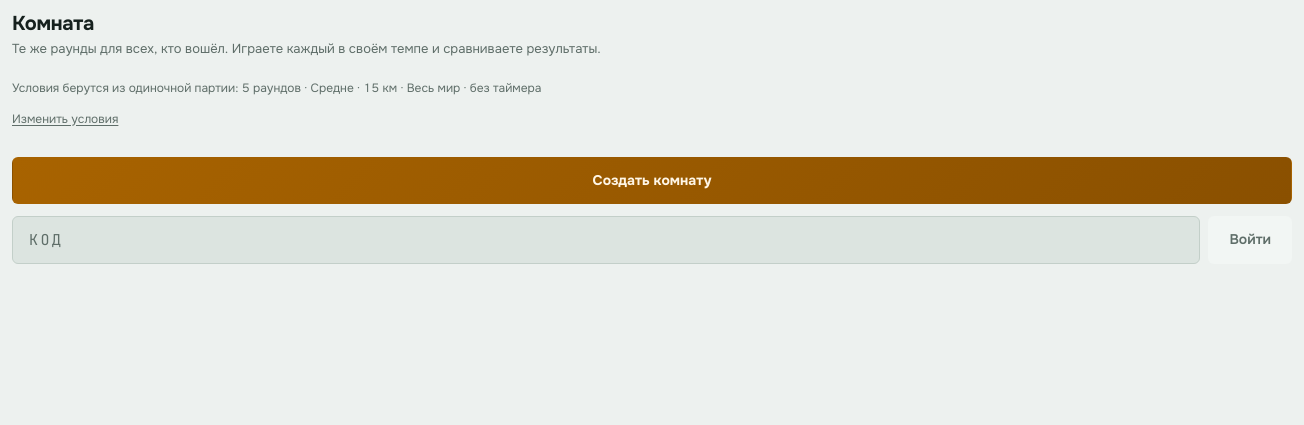
Scenario: MatchRoom › показывает таблицу: счёт доигравшим, прогресс остальным
Click the button "Создать комнату" at [652, 180], box [12,156,1292,204]
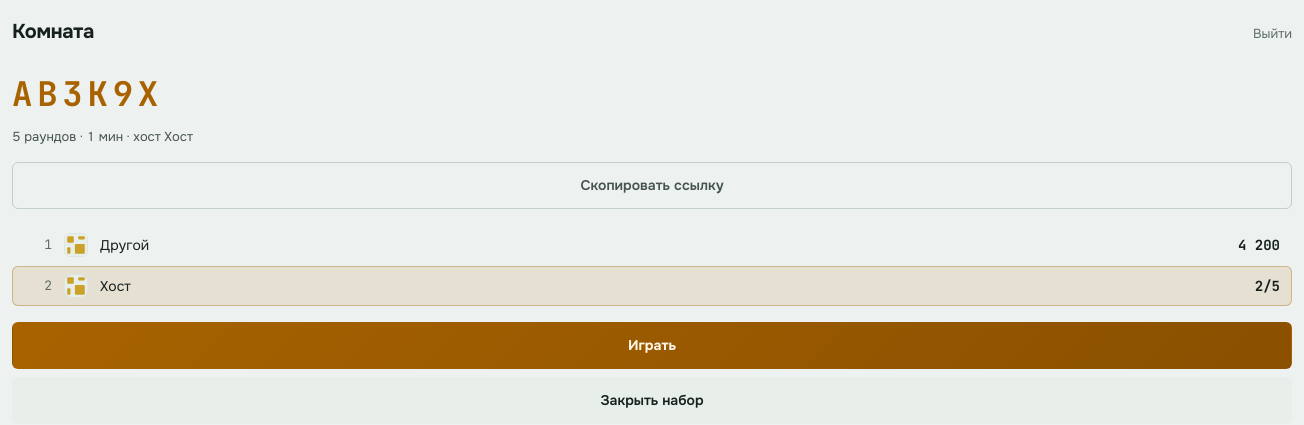
Result: the text "Другой" is shown at [100,234,149,256]
Result: the text "2/5" is shown at [1255,276,1280,296]
